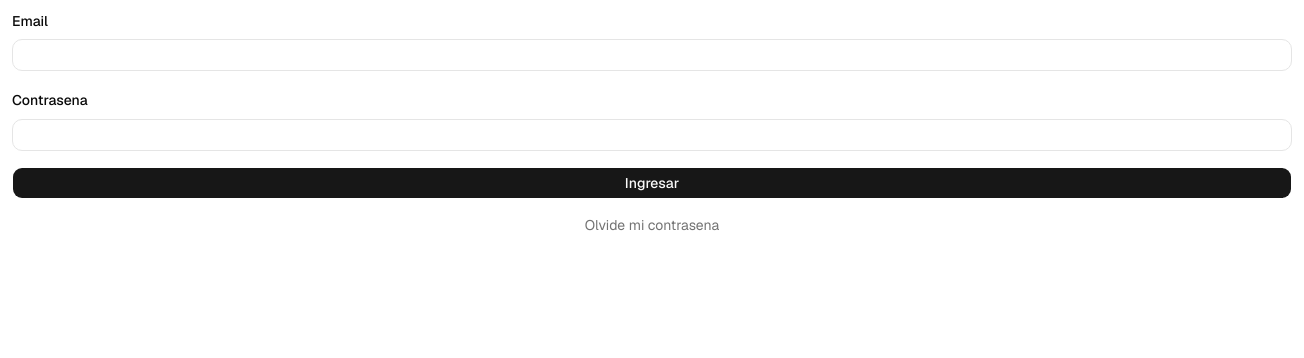
Test: muestra el error general y marca los campos invalidos
This screenshot has width=1304, height=358.
Type "nico@shopping.com" into the field labelled "Email" at x=652, y=55, box [12,39,1292,71]
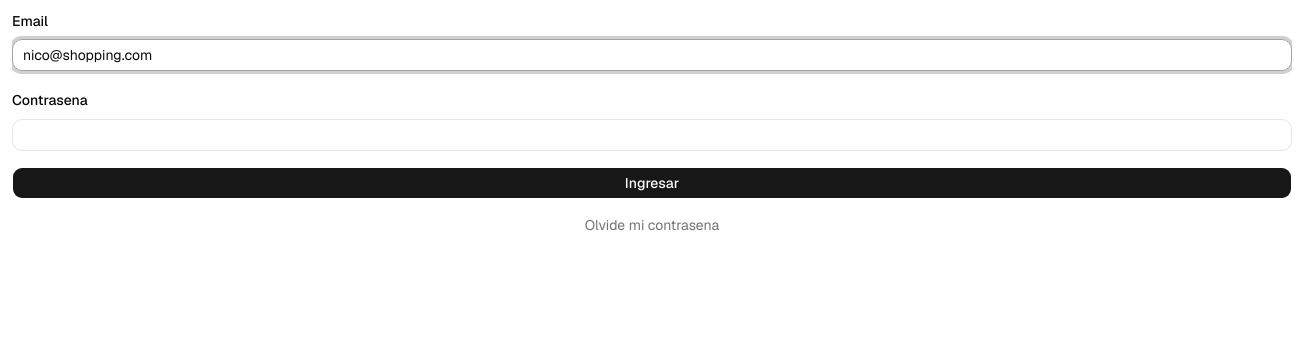
Type "Nico2026" into the password field labelled "Contrasena" at x=652, y=134, box [12,118,1292,150]
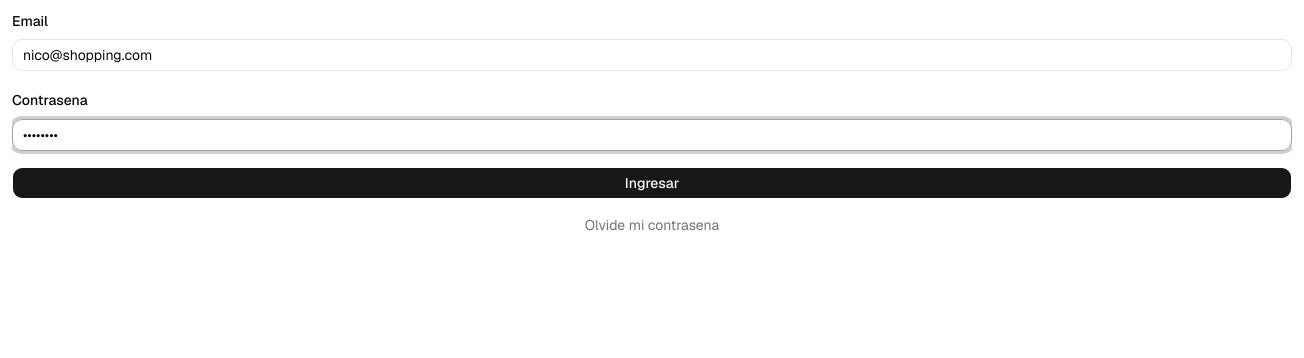
Click the button "Ingresar" at x=652, y=182, box [12,166,1292,198]
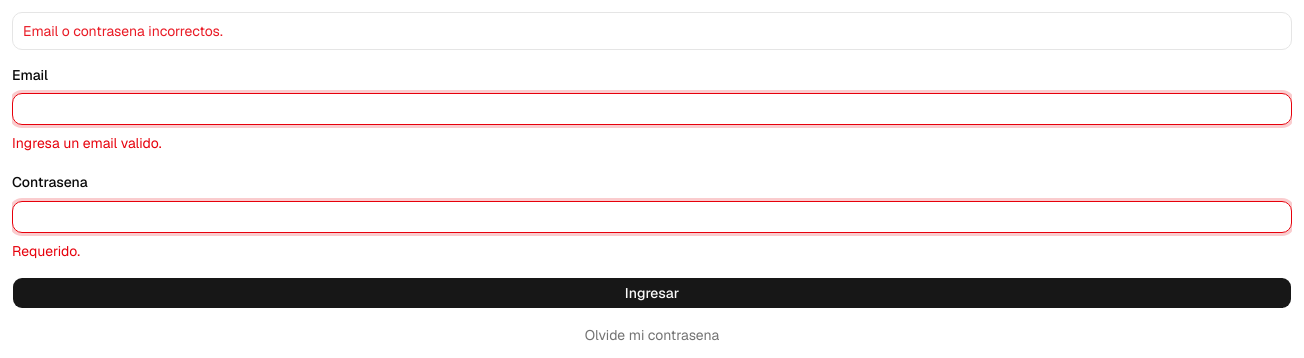
Expected: the text "Email o contrasena incorrectos." is shown, [23,22,223,40]
Expected: the text "Ingresa un email valido." is shown, [12,134,162,152]
Expected: the text "Requerido." is shown, [12,242,80,260]
